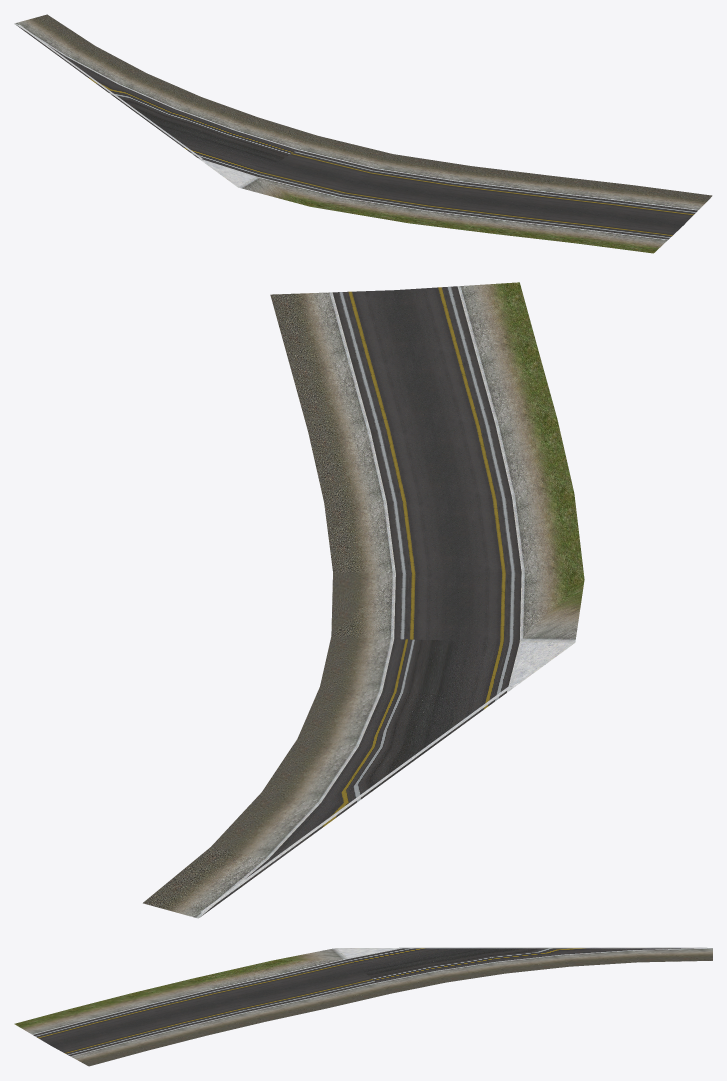
Rendered from vegaswedge25.obj.
3 views of the same model, one above another, from view 1: azimuth 30°, elevation 25°; view 2: azimuth 150°, elevation 25°; view 3: azimuth 270°, elevation 25° (orthographic). The views are drawn at different scales.
Visible parts, largest first — view 1: vegasWedge25; view 2: vegasWedge25; view 3: vegasWedge25.
Part boxes in pixels (<box>): vegasWedge25: <box>14,14,712,253</box>; vegasWedge25: <box>143,282,584,918</box>; vegasWedge25: <box>14,947,712,1066</box>.
Size of the model in its own units: 50.77 by 2.93 by 111.
Materials: 5 (5 with a texture image).
